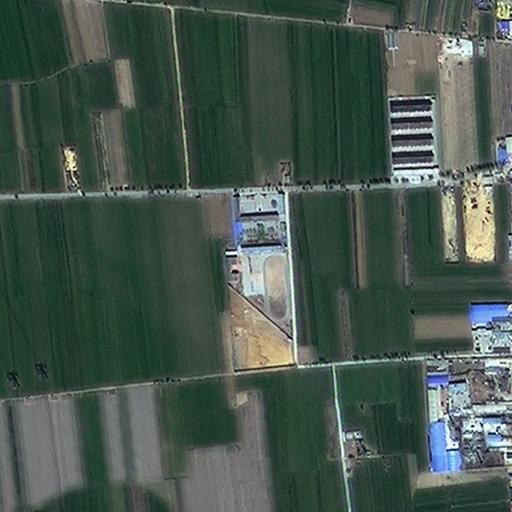school: (223, 189, 295, 341)
